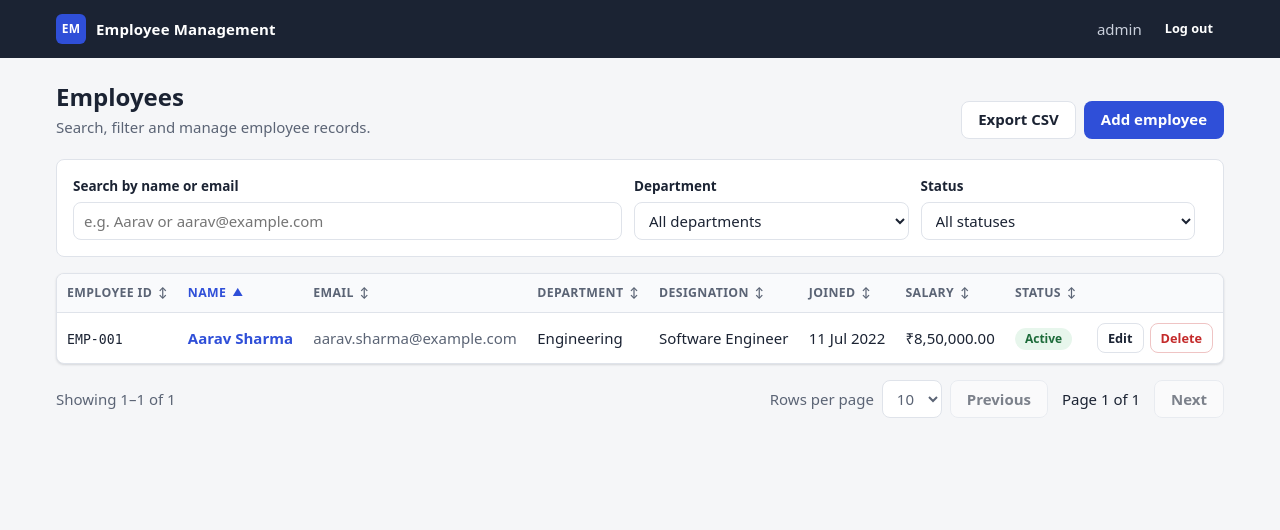
login and logout › logs out and protects the pages again
Expected: the link "Aarav Sharma" is shown, [188,328,293,348]
Click the button "Log out": point(1189, 29) [1154,14,1224,44]
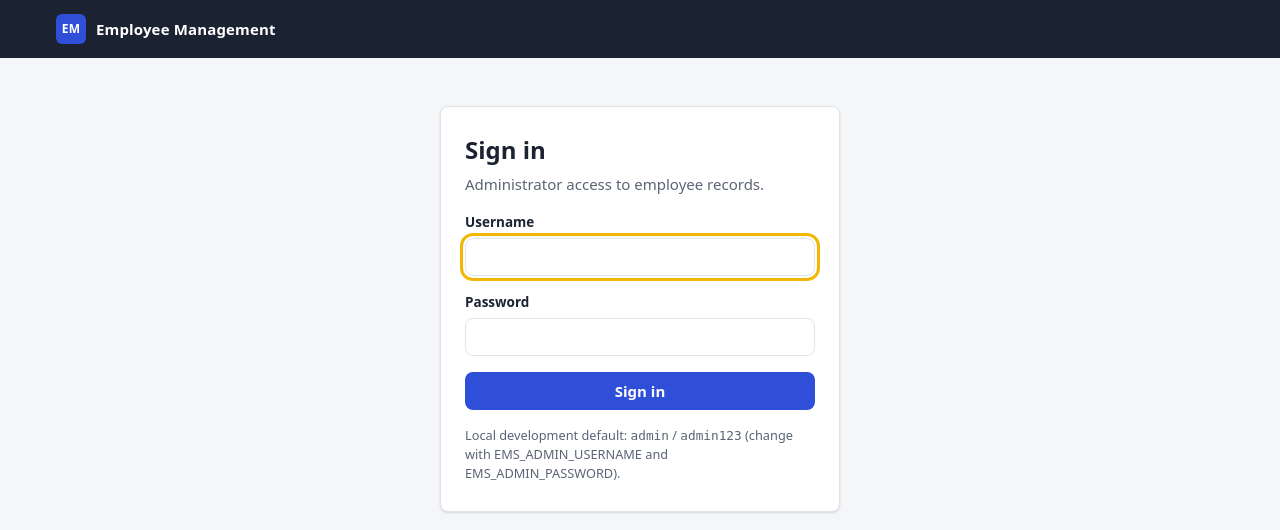
Expected: the heading "Sign in" is shown, [465,133,546,166]
